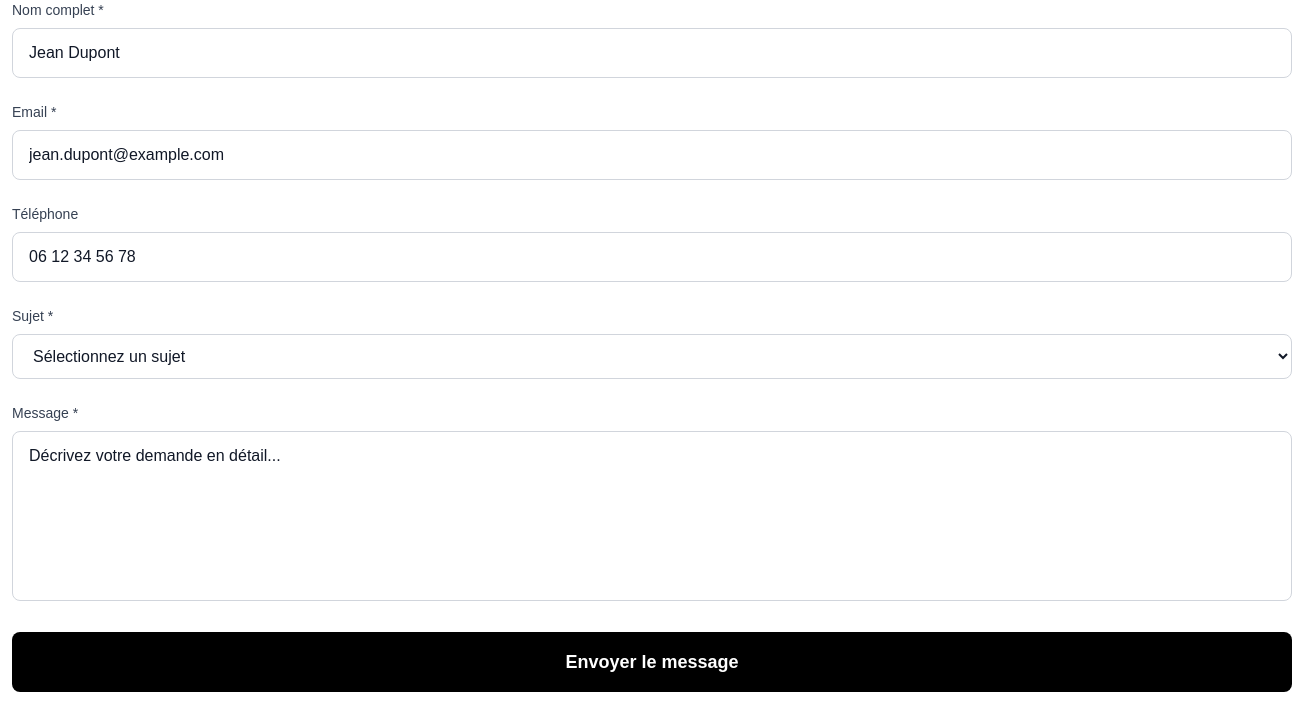
Test case: ContactForm Component › should handle network error
The width and height of the screenshot is (1304, 712).
Type "John Doe" into the field labelled "Nom complet *". click: (652, 53)
box: [12, 28, 1292, 78]
(page scrolled)
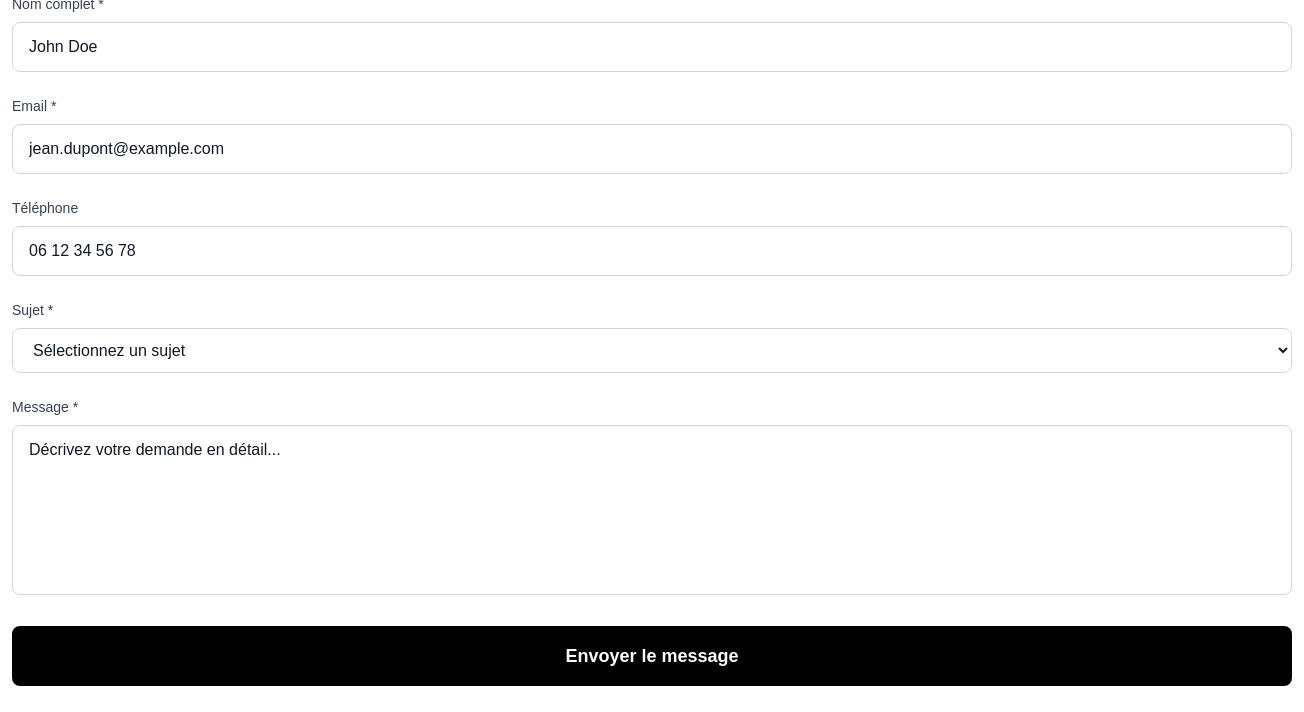
Submit the form labelled "Nom complet"
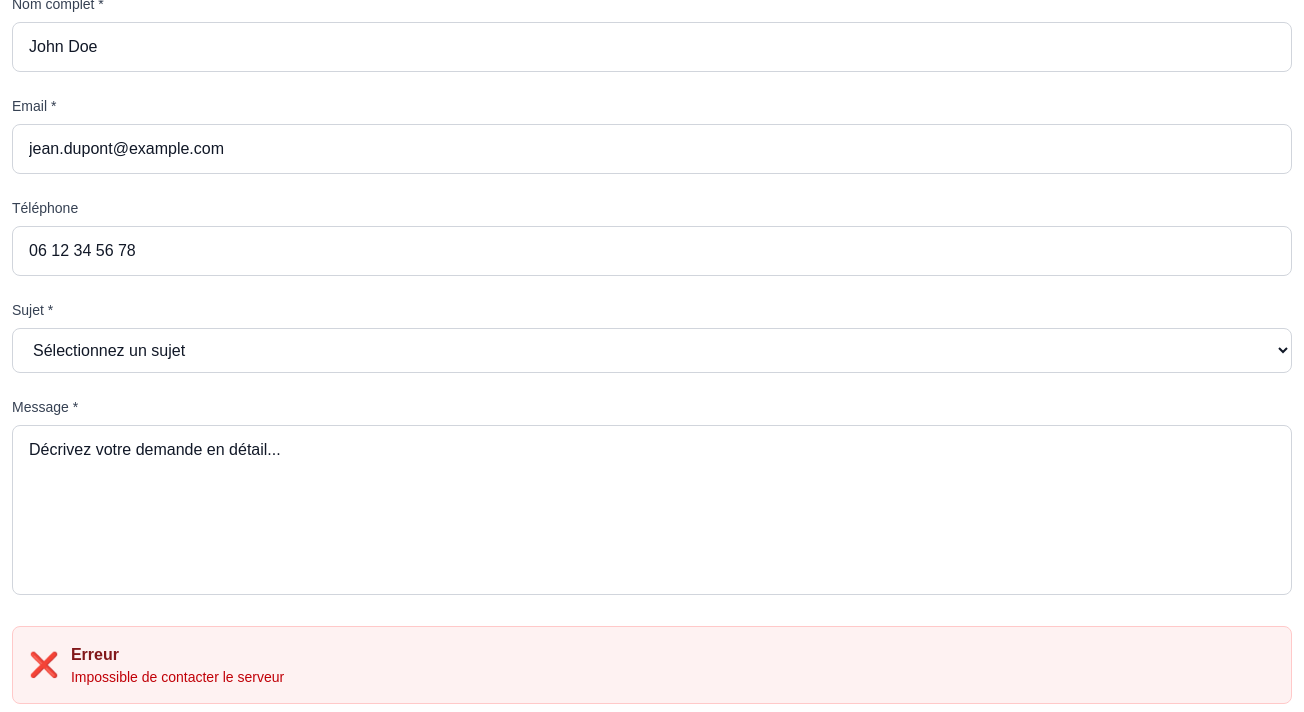
Result: the text "Impossible de contacter le serveur" is shown at [71, 667, 284, 687]
